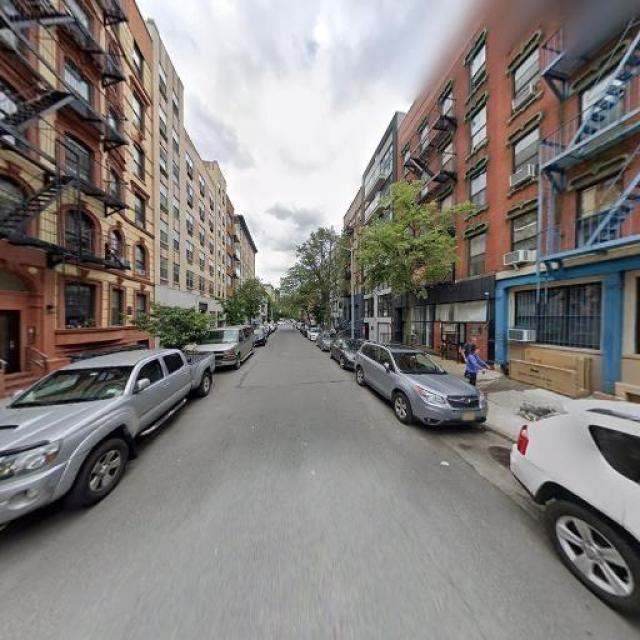Building: (494, 1, 640, 409), (1, 1, 152, 393)
